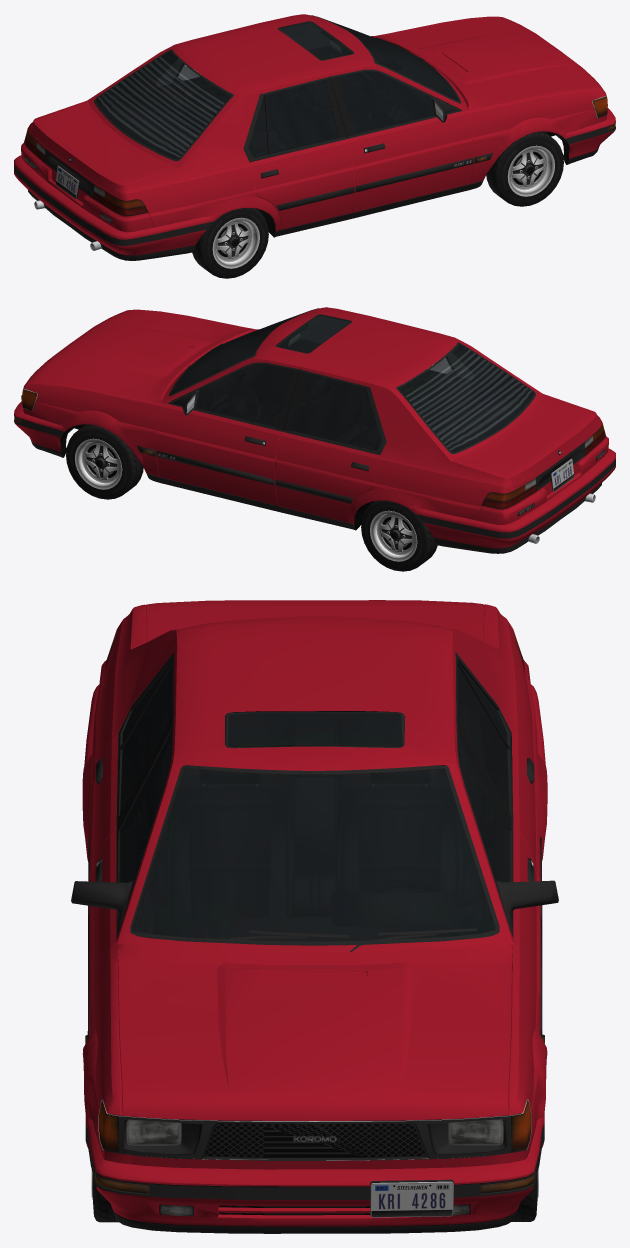
The model's file is kiri.glb.
3 views of the same model, one above another, from view 1: azimuth 30°, elevation 25°; view 2: azimuth 150°, elevation 25°; view 3: azimuth 270°, elevation 25° (orthographic). The views are drawn at different scales.
Visible parts, largest first — view 1: kiri86_Body_kiri86_Bodymat_0, kiri86_Interior_UCB_Interior_Trim_0, kiri86_Hood_kiri86_Bodymat_0, kiri86_Bottom_UCB_BOTTOM_GT_0, kiri86_Rear_window_UCB_Lights_and_Glass_Transperent_0, kiri86_Body_Glass_UCB_Lights_and_Glass_Transperent_0, kiri86_Trunk_door_kiri86_Bodymat_0, kiri86_Wheel_FR_RB1c_Tire_1k_0, kiri86_Glass_Passenger_UCB_Lights_and_Glass_Transperent_0, kiri86_Wheel_RR_RB1c_Tire_1k_0, kiri86_Bumper_rear_kiri86_Bodymat_0, kiri86_bumper_rear_inner_UCB_BOTTOM_GT_0 (+7 smaller); view 2: kiri86_Body_kiri86_Bodymat_0, kiri86_Interior_UCB_Interior_Trim_0, kiri86_Hood_kiri86_Bodymat_0, kiri86_Bottom_UCB_BOTTOM_GT_0, kiri86_Rear_window_UCB_Lights_and_Glass_Transperent_0, kiri86_Body_Glass_UCB_Lights_and_Glass_Transperent_0, kiri86_Trunk_door_kiri86_Bodymat_0, kiri86_Wheel_FL_RB1c_Tire_1k_0, kiri86_Glass_Driver_UCB_Lights_and_Glass_Transperent_0, kiri86_Wheel_RL_RB1c_Tire_1k_0, kiri86_Bumper_rear_kiri86_Bodymat_0, kiri86_bumper_rear_inner_UCB_BOTTOM_GT_0 (+8 smaller); view 3: kiri86_Body_kiri86_Bodymat_0, kiri86_Interior_UCB_Interior_Trim_0, kiri86_Hood_kiri86_Bodymat_0, kiri86_Windshield_UCB_Lights_and_Glass_Transperent_0, kiri86_Bottom_UCB_BOTTOM_GT_0, kiri86_Bumper_front_kiri86_Bodymat_0, kiri86_Body_Glass_UCB_Lights_and_Glass_Transperent_0, kiri86_Bumper_Front_Inner_UCB_BOTTOM_GT_0, kiri86_Trunk_door_kiri86_Bodymat_0, kiri86_Headlights_Glass_UCB_Lights_and_Glass_Transperent_0, kiri86_Glass_Driver_UCB_Lights_and_Glass_Transperent_0, kiri86_Glass_Passenger_UCB_Lights_and_Glass_Transperent_0 (+4 smaller).
Boxes of the visible parts, bbox=[...] form: kiri86_Body_kiri86_Bodymat_0: bbox=[21, 14, 607, 232]; kiri86_Interior_UCB_Interior_Trim_0: bbox=[96, 23, 465, 162]; kiri86_Hood_kiri86_Bodymat_0: bbox=[371, 17, 603, 109]; kiri86_Bottom_UCB_BOTTOM_GT_0: bbox=[24, 15, 606, 250]; kiri86_Rear_window_UCB_Lights_and_Glass_Transperent_0: bbox=[95, 50, 231, 159]; kiri86_Body_Glass_UCB_Lights_and_Glass_Transperent_0: bbox=[157, 22, 352, 157]; kiri86_Trunk_door_kiri86_Bodymat_0: bbox=[30, 104, 172, 194]; kiri86_Wheel_FR_RB1c_Tire_1k_0: bbox=[486, 131, 563, 206]; kiri86_Glass_Passenger_UCB_Lights_and_Glass_Transperent_0: bbox=[336, 71, 434, 134]; kiri86_Wheel_RR_RB1c_Tire_1k_0: bbox=[192, 208, 268, 278]; kiri86_Bumper_rear_kiri86_Bodymat_0: bbox=[14, 155, 221, 255]; kiri86_bumper_rear_inner_UCB_BOTTOM_GT_0: bbox=[14, 166, 213, 260]; kiri86_Body_kiri86_Bodymat_0: bbox=[22, 307, 608, 524]; kiri86_Interior_UCB_Interior_Trim_0: bbox=[163, 318, 533, 467]; kiri86_Hood_kiri86_Bodymat_0: bbox=[26, 310, 258, 402]; kiri86_Bottom_UCB_BOTTOM_GT_0: bbox=[22, 308, 605, 543]; kiri86_Rear_window_UCB_Lights_and_Glass_Transperent_0: bbox=[398, 344, 534, 452]; kiri86_Body_Glass_UCB_Lights_and_Glass_Transperent_0: bbox=[277, 315, 472, 450]; kiri86_Trunk_door_kiri86_Bodymat_0: bbox=[457, 397, 599, 487]; kiri86_Wheel_FL_RB1c_Tire_1k_0: bbox=[66, 424, 143, 499]; kiri86_Glass_Driver_UCB_Lights_and_Glass_Transperent_0: bbox=[195, 364, 293, 427]; kiri86_Wheel_RL_RB1c_Tire_1k_0: bbox=[361, 500, 437, 571]; kiri86_Bumper_rear_kiri86_Bodymat_0: bbox=[407, 448, 615, 548]; kiri86_bumper_rear_inner_UCB_BOTTOM_GT_0: bbox=[416, 459, 615, 553]; kiri86_Body_kiri86_Bodymat_0: bbox=[82, 604, 547, 1169]; kiri86_Interior_UCB_Interior_Trim_0: bbox=[121, 667, 508, 940]; kiri86_Hood_kiri86_Bodymat_0: bbox=[117, 944, 512, 1120]; kiri86_Windshield_UCB_Lights_and_Glass_Transperent_0: bbox=[134, 768, 495, 941]; kiri86_Bottom_UCB_BOTTOM_GT_0: bbox=[71, 625, 558, 1160]; kiri86_Bumper_front_kiri86_Bodymat_0: bbox=[85, 1114, 544, 1226]; kiri86_Body_Glass_UCB_Lights_and_Glass_Transperent_0: bbox=[120, 665, 509, 813]; kiri86_Bumper_Front_Inner_UCB_BOTTOM_GT_0: bbox=[85, 1119, 544, 1233]; kiri86_Trunk_door_kiri86_Bodymat_0: bbox=[145, 600, 484, 642]; kiri86_Headlights_Glass_UCB_Lights_and_Glass_Transperent_0: bbox=[98, 1100, 531, 1152]; kiri86_Glass_Driver_UCB_Lights_and_Glass_Transperent_0: bbox=[458, 730, 510, 882]; kiri86_Glass_Passenger_UCB_Lights_and_Glass_Transperent_0: bbox=[119, 730, 171, 882].
Size of the model in its own units: 4.31 by 1.32 by 1.76.
8 materials, 7 textured.
